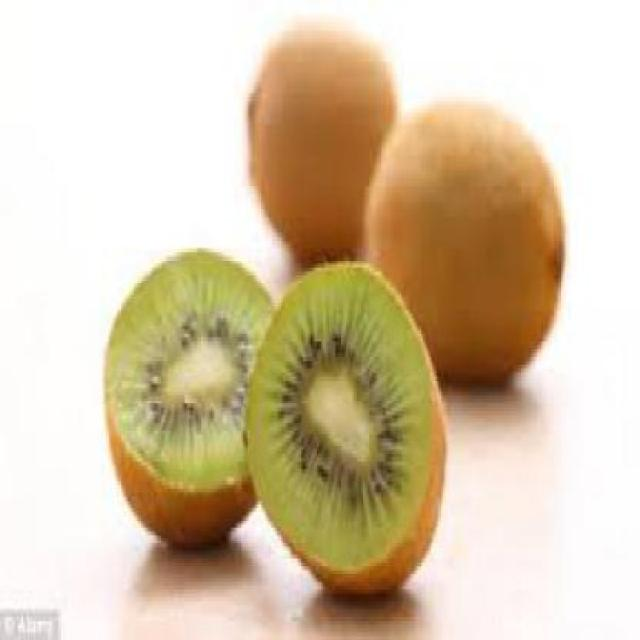BIODEGRADABLE: (246, 256, 445, 598), (363, 90, 565, 384), (99, 248, 288, 550), (246, 27, 394, 256)
